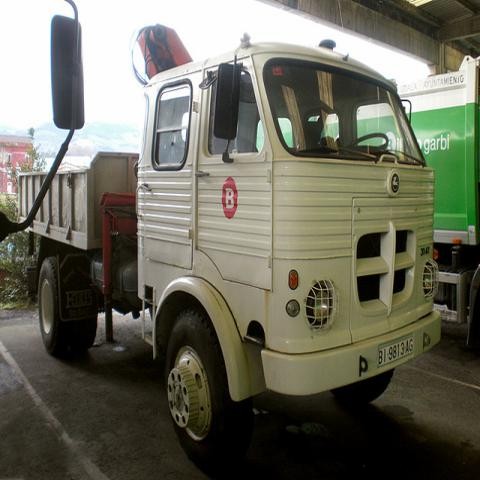truck: (11, 26, 443, 467), (397, 51, 480, 358)
